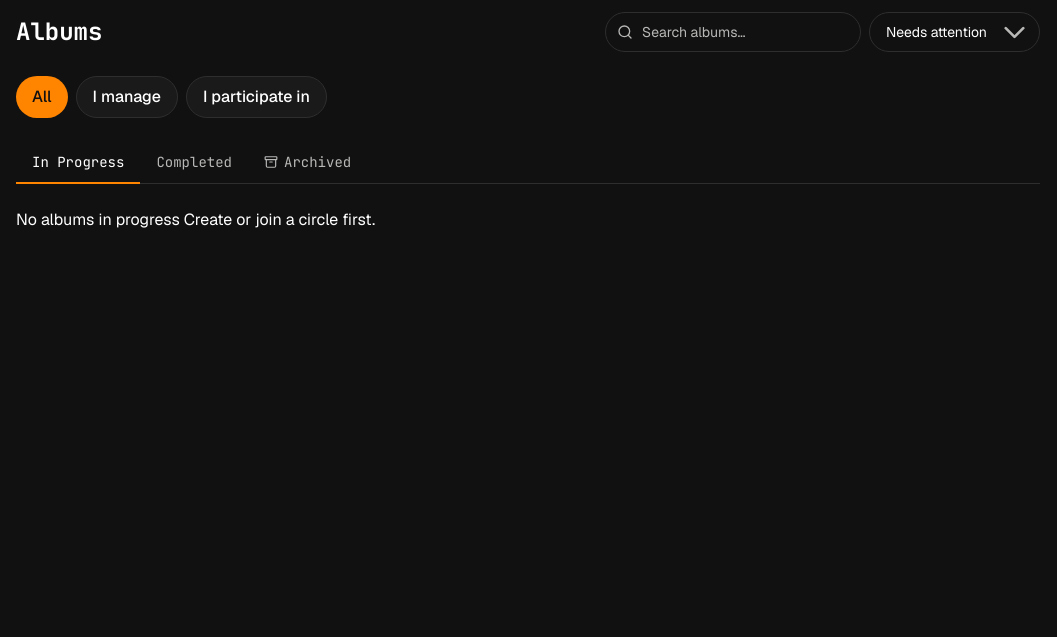
Test: AlbumsView › ignores stale album search responses
Step 1. Type "old" into the field with class "input-field" → (733, 32), box [605,12,861,52]
Wait 300 ms
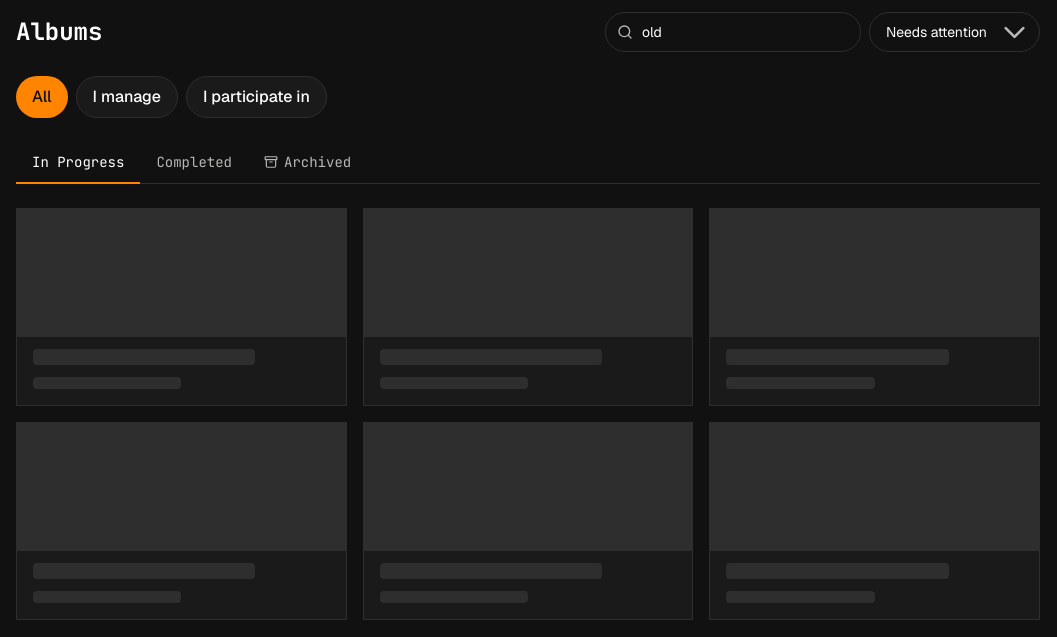
Step 2. Replace the text in the field with class "input-field" with "new" → (733, 32), box [605,12,861,52]
Wait 300 ms
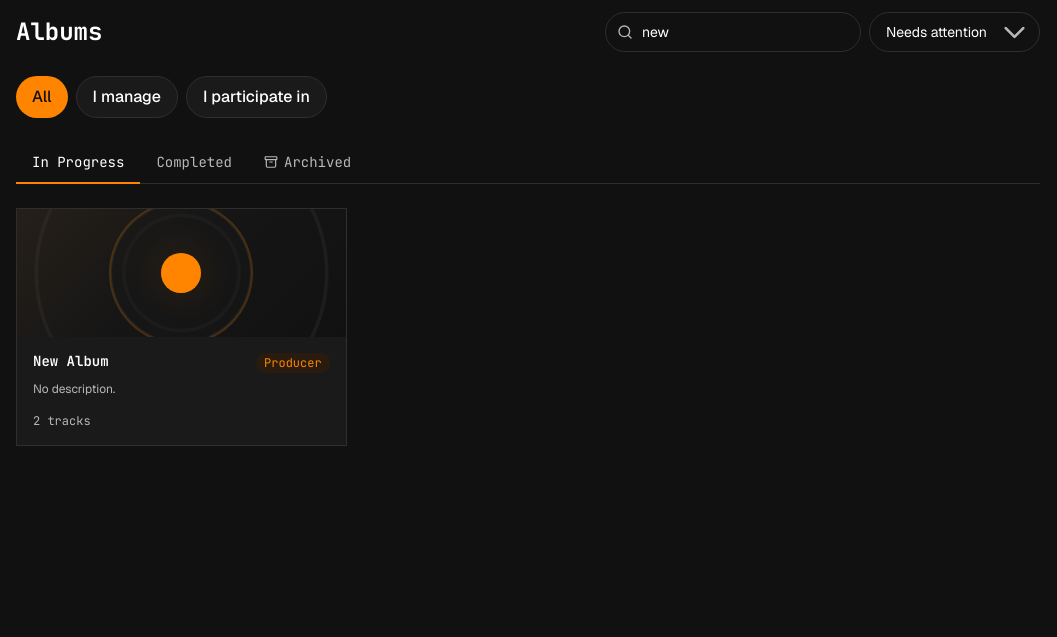
Expected: the text "New Album" is shown, [33,353,109,370]
